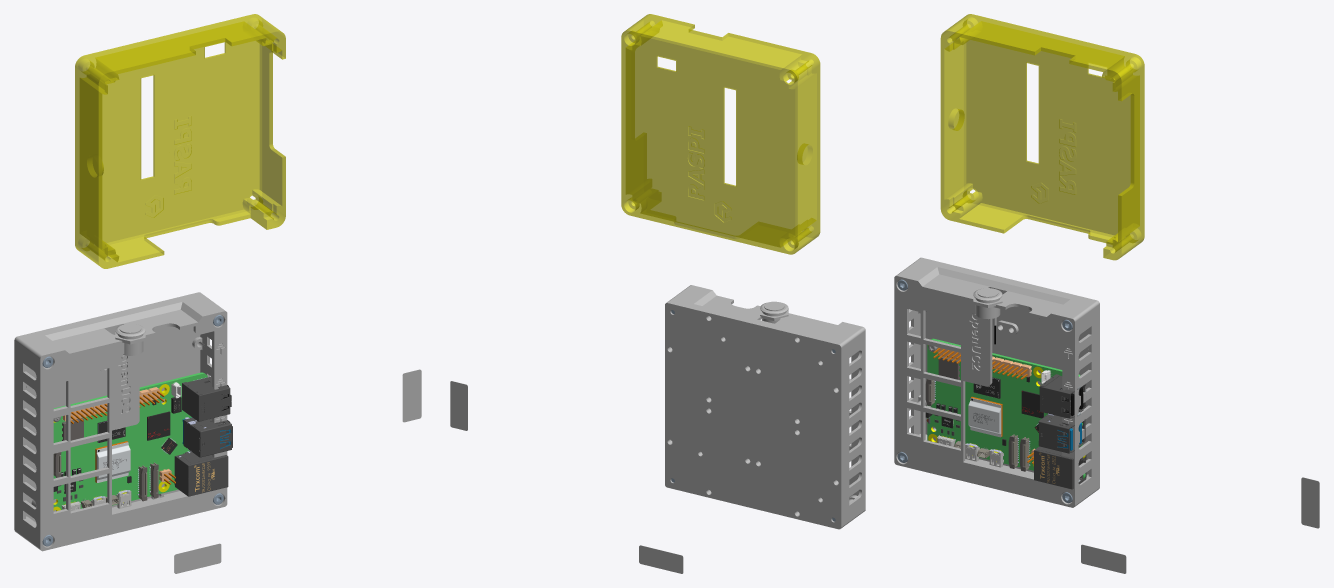
The model's file is ASS_-_4011_-_RASPI5+CAS2X2_-_A.glb.
3 renders of one model, left to right at view 1: azimuth 30°, elevation 25°; view 2: azimuth 150°, elevation 25°; view 3: azimuth 330°, elevation 25°, orthographic. The views are drawn at different scales.
Parts seen in each view (by area): view 1: =>[0:1:1:4], BUY - Raspberry Pi 5:1, PRT - 1012 - CASRASPI52X2BAS - A:1, PRT - 5001 - STKCAUHEA25x10:1, PRT - 5003 - STKCAUDNTCOV25x10:1, BUY - Push button - Gebildet Typ no 761344728882:1; view 2: =>[0:1:1:4], PRT - 1012 - CASRASPI52X2BAS - A:1, PRT - 5003 - STKCAUDNTCOV25x10:1, PRT - 5001 - STKCAUHEA25x10:1; view 3: =>[0:1:1:4], BUY - Raspberry Pi 5:1, PRT - 1012 - CASRASPI52X2BAS - A:1, PRT - 5001 - STKCAUHEA25x10:1, PRT - 5003 - STKCAUDNTCOV25x10:1, BUY - Push button - Gebildet Typ no 761344728882:1.
Part boxes in pixels (box(x1,y1,x2,y2)): =>[0:1:1:4]: box(23, 14, 285, 551); BUY - Raspberry Pi 5:1: box(53, 372, 232, 511); PRT - 1012 - CASRASPI52X2BAS - A:1: box(14, 292, 209, 537); PRT - 5001 - STKCAUHEA25x10:1: box(402, 369, 421, 422); PRT - 5003 - STKCAUDNTCOV25x10:1: box(174, 543, 221, 573); BUY - Push button - Gebildet Typ no 761344728882:1: box(115, 323, 145, 355); =>[0:1:1:4]: box(621, 14, 865, 522); PRT - 1012 - CASRASPI52X2BAS - A:1: box(665, 297, 849, 529); PRT - 5003 - STKCAUDNTCOV25x10:1: box(639, 545, 683, 573); PRT - 5001 - STKCAUHEA25x10:1: box(450, 381, 467, 430); =>[0:1:1:4]: box(894, 14, 1144, 507); BUY - Raspberry Pi 5:1: box(925, 338, 1086, 489); PRT - 1012 - CASRASPI52X2BAS - A:1: box(911, 257, 1099, 494); PRT - 5001 - STKCAUHEA25x10:1: box(1301, 477, 1319, 528); PRT - 5003 - STKCAUDNTCOV25x10:1: box(1081, 544, 1126, 573); BUY - Push button - Gebildet Typ no 761344728882:1: box(973, 288, 1002, 344).
Size of the model in its own units: 219 by 281 by 32.77.
